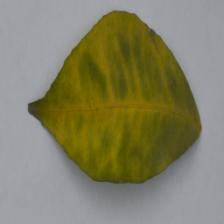greening: (44, 5, 142, 186)
